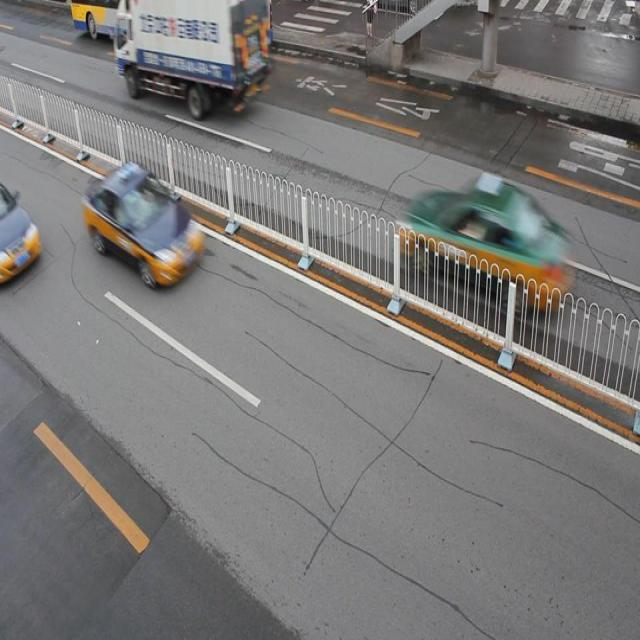bus: (114, 1, 270, 110)
car: (406, 177, 566, 307), (85, 160, 203, 286), (1, 187, 41, 286)
van: (70, 1, 272, 59)
